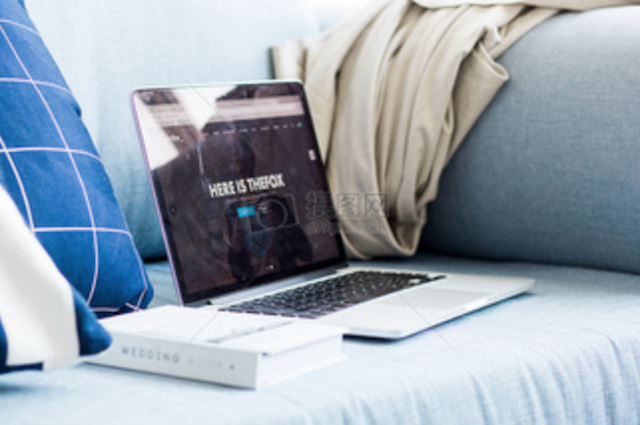books: (82, 297, 360, 402)
computer: (128, 78, 551, 335)
